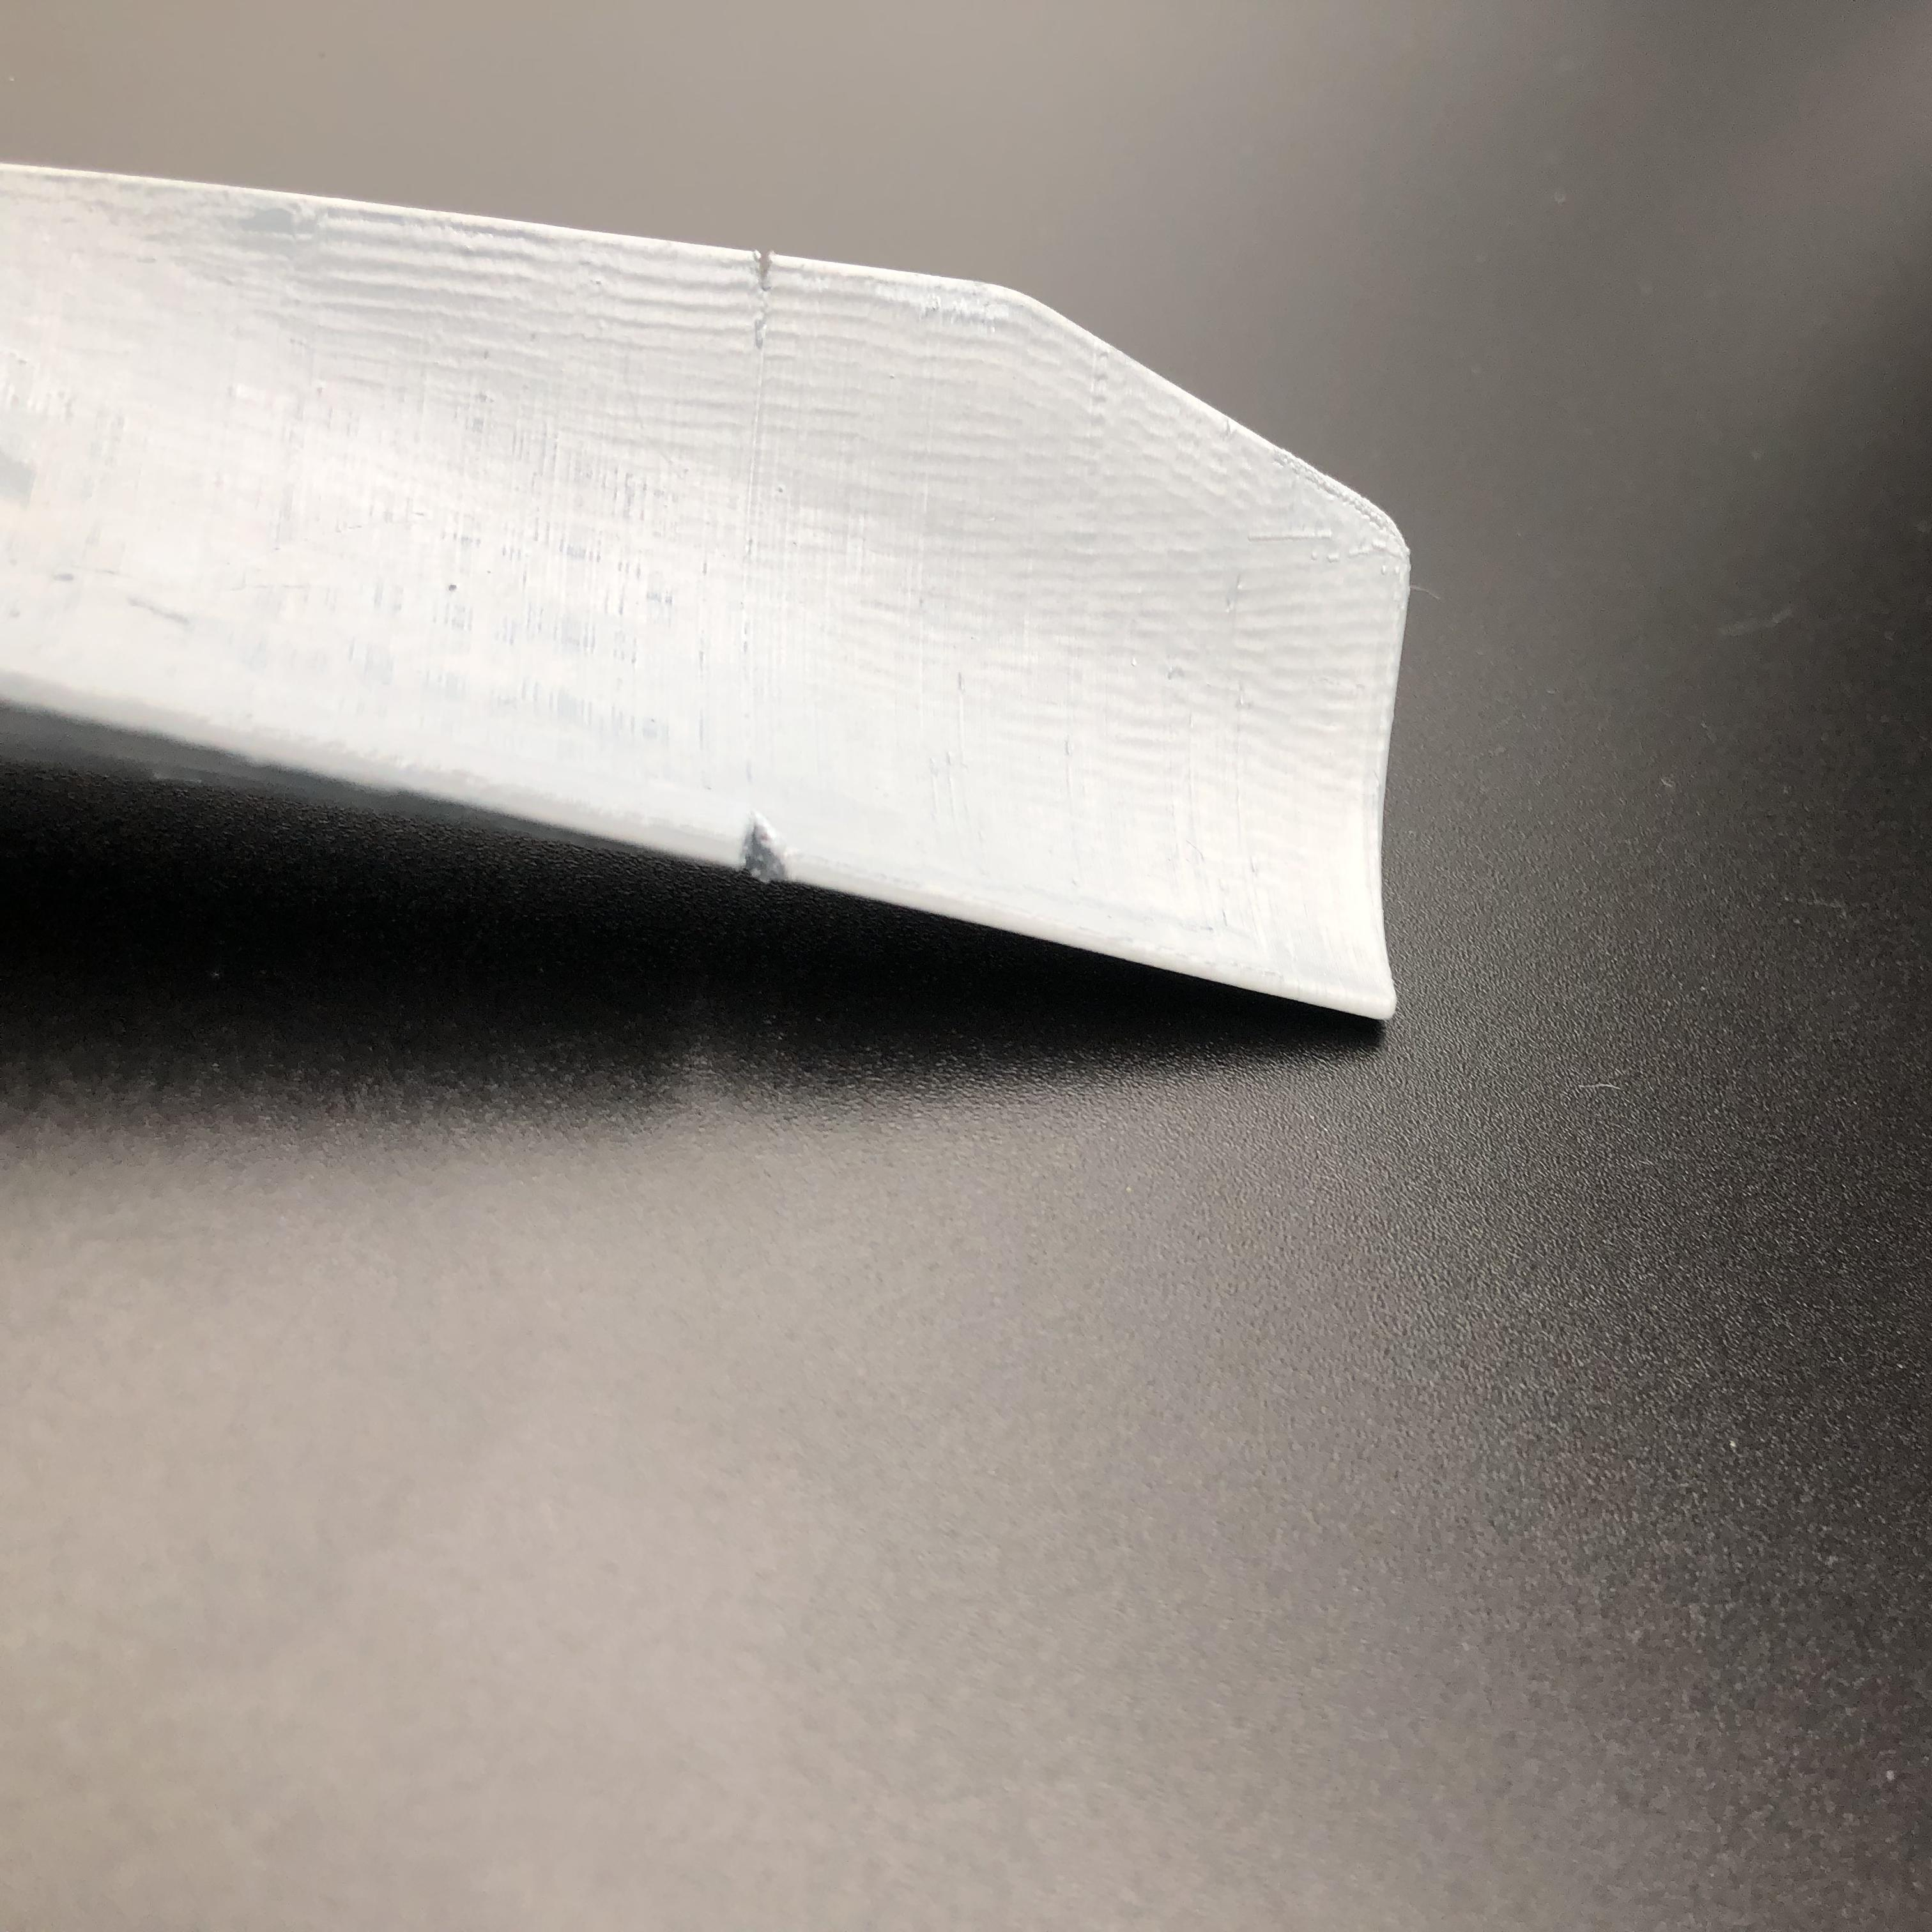groove: (729, 823, 801, 892), (741, 248, 786, 304)
